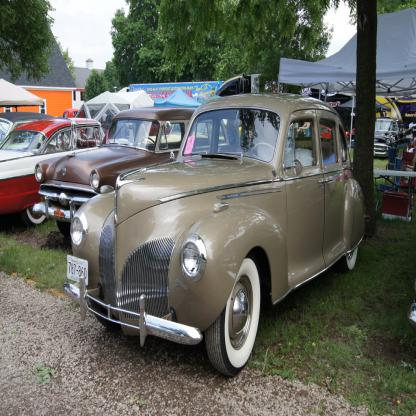Car: (0, 94, 404, 378)
